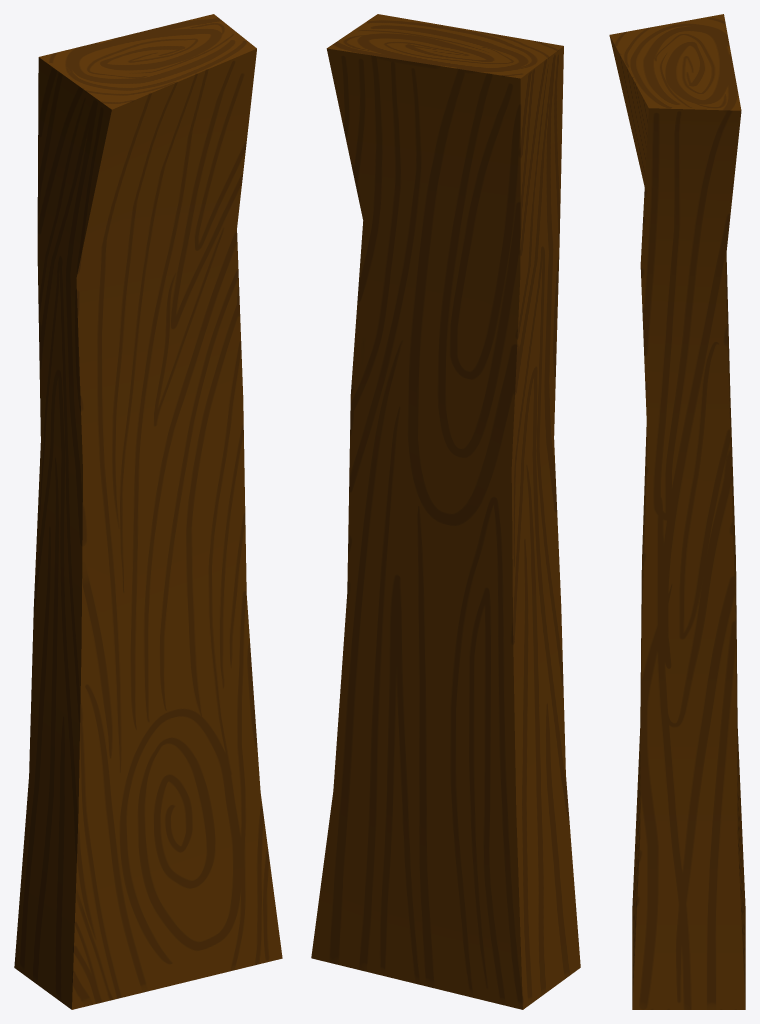
Rendered from Post_Middle.fbx.
The picture shows the model from 3 angles, left to right: view 1: azimuth 30°, elevation 25°; view 2: azimuth 150°, elevation 25°; view 3: azimuth 270°, elevation 25°; orthographic projection. The views are drawn at different scales.
Visible parts, largest first — view 1: Mid_Post; view 2: Mid_Post; view 3: Mid_Post.
Part boxes in pixels (x1=…): Mid_Post: x1=14, y1=14, x2=282, y2=1009; Mid_Post: x1=311, y1=14, x2=580, y2=1009; Mid_Post: x1=609, y1=14, x2=745, y2=1009.
Size of the model in its own units: 0.9727 by 4.04 by 0.5534.
Materials: 1 (1 with a texture image).
